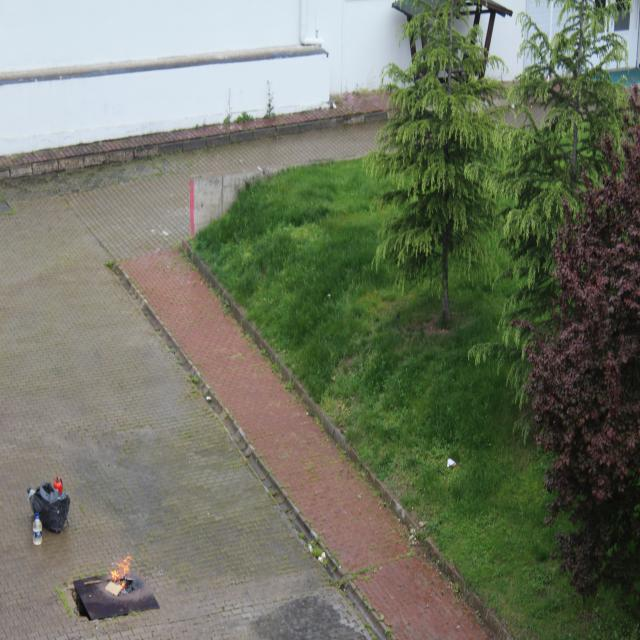fire: (110, 547, 132, 591)
